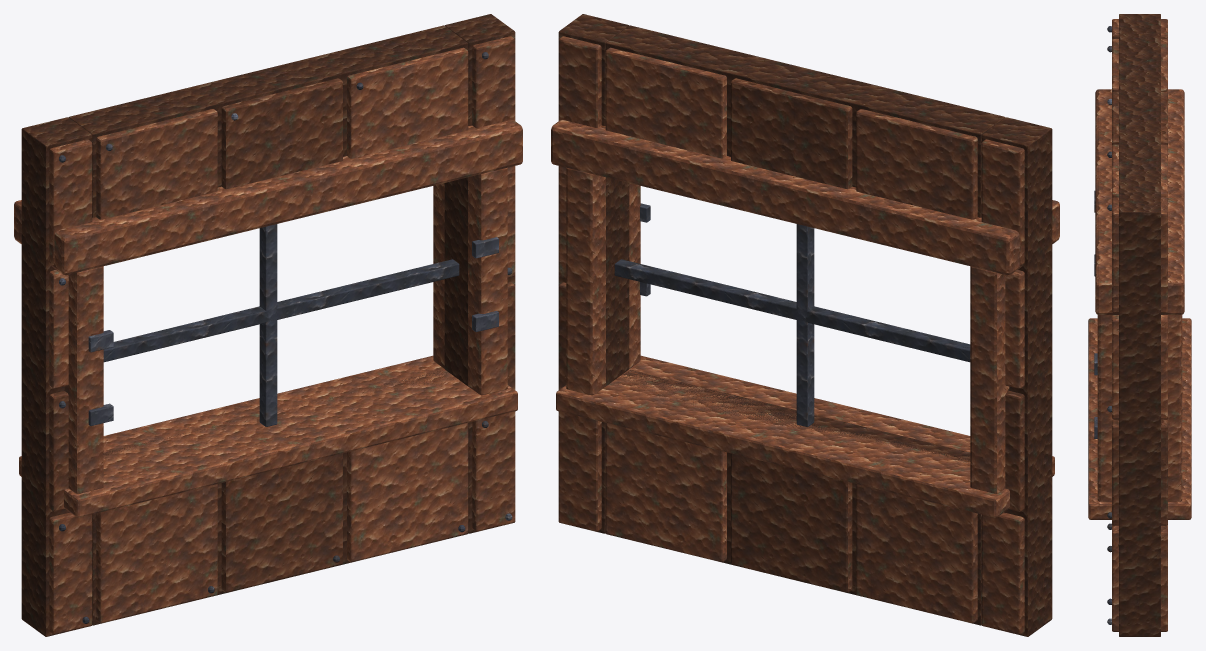
File: window_wide__copper_ingot.glb
3 views of the same model, side by side, from view 1: azimuth 30°, elevation 25°; view 2: azimuth 150°, elevation 25°; view 3: azimuth 270°, elevation 25° (orthographic). The views are drawn at different scales.
Visible parts, largest first — view 1: model; view 2: model; view 3: model.
Boxes of the visible parts, x1,y1,x2,y2 form: model: (14, 14, 522, 636); model: (551, 14, 1059, 636); model: (1088, 14, 1191, 636).
Size of the model in its own units: 2 by 2 by 0.44.
7 materials, 7 textured.
